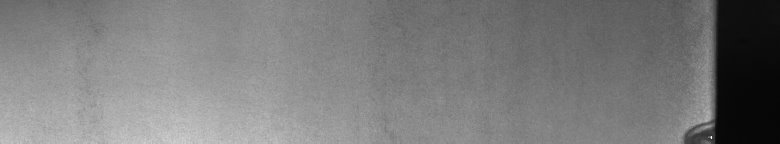hb: (678, 115, 704, 136)
